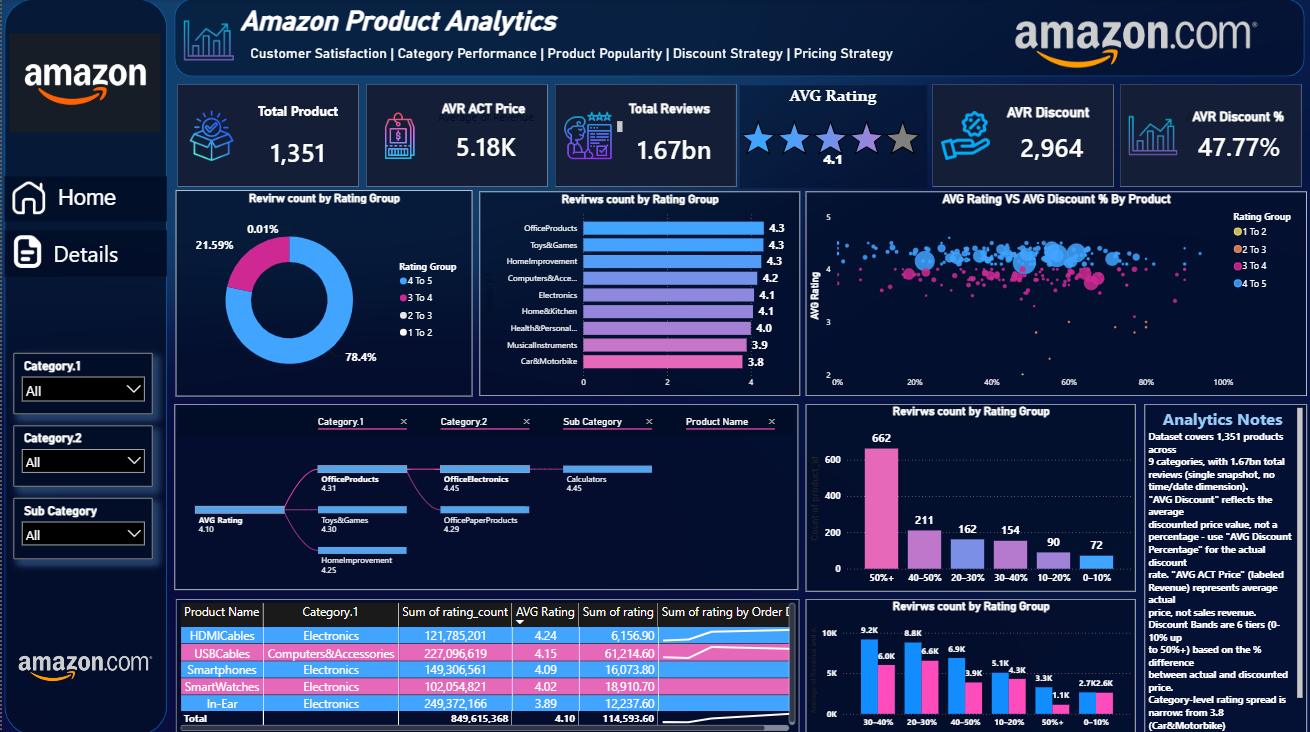

The page's visual inventory and layout, read from the dashboard file:
{"tool":"powerbi","page":{"name":"Home","canvas":[1920,1080],"ordinal":1},"visuals":[{"type":"shape","box":[3.7,0,238.5,1080.4],"z":0},{"type":"shape","box":[253.1,0,1658.2,113.7],"z":1000},{"type":"textbox","title":"  Amazon Product Analytics","box":[344.8,9.2,816.2,117.4],"z":2000},{"type":"textbox","title":"Customer Satisfaction   |   Category Performance   |   Product Popularity   |   Discount Strategy   |   Pricing Strategy","box":[359.5,67.9,1414.2,93.5],"z":3000},{"type":"cardVisual","title":"Total Product","fields":{"Data":["Count(Amazon DataSet.product_id)"]},"box":[253.1,120.3,275,159.6],"z":4000},{"type":"cardVisual","title":"Total Product","fields":{"Data":["Sum(Amazon DataSet.rating_count)"]},"box":[806.3,121.1,275,159.6],"z":5000},{"type":"PBI_CV_9053509D_D461_463A_B485_CE9F6AB0F13D","title":"AVG Rating","fields":{"value":["Amazon DataSet.AVG Rating"]},"box":[1082.9,126.6,275,151],"z":6000},{"type":"cardVisual","title":"Total Product","fields":{"Data":["Avg(Amazon DataSet.discounted_price)"]},"box":[1361.7,121.7,275,159.6],"z":7000},{"type":"cardVisual","title":"Total Product","fields":{"Data":["Avg(Amazon DataSet.discount_percentage)"]},"box":[1636.7,121.7,275,159.6],"z":8000},{"type":"textbox","title":"Total Reviews","box":[823.6,150.4,311.8,55],"z":9000},{"type":"textbox","title":"AVR Discount","box":[1379.4,154.1,311.8,64.2],"z":10000},{"type":"textbox","title":"AVR Discount %","box":[1716.9,161.4,194.4,64.2],"z":11000},{"type":"cardVisual","title":"Total Product","fields":{"Data":["Avg(Amazon DataSet.Revenue)"]},"box":[529.7,121.1,275,159.6],"z":12000},{"type":"textbox","title":"AVR ACT Price","box":[640.2,150.4,275.1,49.5],"z":13000},{"type":"donutChart","title":"Revirw count by Rating Group","fields":{"Category":["Amazon DataSet.Rating Group"],"Y":["Sum(Amazon DataSet.rating_count)"]},"box":[255,280,435,302.5],"z":14000},{"type":"barChart","title":"Revirws count by Rating Group","fields":{"Category":["Amazon DataSet.Category.1","Amazon DataSet.Category.2"],"Y":["Amazon DataSet.AVG Rating"]},"box":[700,282.5,470,300],"z":15000},{"type":"scatterChart","title":"AVG Rating VS AVG Discount % By Product","fields":{"Category":["Amazon DataSet.Product Name"],"Series":["Amazon DataSet.Rating Group"],"Size":["Sum(Amazon DataSet.rating_count)"],"X":["Avg(Amazon DataSet.discount_percentage)"],"Y":["Amazon DataSet.AVG Rating"]},"box":[1180,282.5,735,300],"z":16000},{"type":"decompositionTreeVisual","fields":{"Analyze":["Amazon DataSet.AVG Rating"],"ExplainBy":["Amazon DataSet.Category.1","Amazon DataSet.Category.2","Amazon DataSet.Sub Category","Amazon DataSet.Product Name"]},"box":[252.5,595,915,272.5],"z":17000},{"type":"clusteredColumnChart","title":"Revirws count by Rating Group","fields":{"Category":["Amazon DataSet.Discount Band"],"Y":["Count(Amazon DataSet.product_id)"]},"box":[1179.4,594.3,484.2,275.1],"z":18000},{"type":"tableEx","fields":{"Values":["Amazon DataSet.Product Name","Amazon DataSet.Category.1","Sum(Amazon DataSet.rating_count)","Amazon DataSet.AVG Rating","Sum(Amazon DataSet.rating)","SparklineData(Sum(Amazon DataSet.rating)_[Amazon DataSet.Order Date])"]},"box":[255,880,915,200],"z":19000},{"type":"clusteredColumnChart","title":"Revirws count by Rating Group","fields":{"Category":["Amazon DataSet.Discount Band"],"Y":["Avg(Amazon DataSet.Revenue)","Avg(Amazon DataSet.discounted_price)"]},"box":[1179.4,880.4,484.2,199.9],"z":20000},{"type":"actionButton","title":"Home","box":[3.7,339.3,238.5,67.9],"z":21000},{"type":"actionButton","title":"Home","box":[3.7,260.5,238.5,66],"z":22000},{"type":"image","box":[16.5,904.3,205.4,150.4],"z":23000},{"type":"slicer","fields":{"Values":["Amazon DataSet.Category.1"]},"box":[16,520,205,90],"z":24000},{"type":"slicer","fields":{"Values":["Amazon DataSet.Category.2"]},"box":[16,626,205,90],"z":25000},{"type":"slicer","fields":{"Values":["Amazon DataSet.Sub Category"]},"box":[16,732,205,90],"z":26000},{"type":"image","box":[7.3,267.8,64.2,47.7],"z":27000},{"type":"image","box":[5.5,346.7,64.2,47.7],"z":28000},{"type":"image","box":[266,23.8,75.2,73.4],"z":29000},{"type":"textbox","box":[1676.5,594.3,238.5,486.1],"z":30000},{"type":"image","box":[11,0,221.9,245.8],"z":31000},{"type":"image","box":[1472.9,14.7,372.4,93.5],"z":32000}]}

Visuals, with their boxes on the page's 1920x1080 design canvas (x1, y1, x2, y2). These are canvas units, not pixel positions in the 1310x732 screenshot, which may show the page scaled, cropped or inside an application window:
shape: <bbox>4, 0, 242, 1080</bbox>
shape: <bbox>253, 0, 1911, 114</bbox>
"  Amazon Product Analytics" textbox: <bbox>345, 9, 1161, 127</bbox>
"Customer Satisfaction   |   Category Performance   |   Product Popularity   |   Discount Strategy   |   Pricing Strategy" textbox: <bbox>360, 68, 1774, 161</bbox>
"Total Product" cardVisual: <bbox>253, 120, 528, 280</bbox>
"Total Product" cardVisual: <bbox>806, 121, 1081, 281</bbox>
"AVG Rating" PBI_CV_9053509D_D461_463A_B485_CE9F6AB0F13D: <bbox>1083, 127, 1358, 278</bbox>
"Total Product" cardVisual: <bbox>1362, 122, 1637, 281</bbox>
"Total Product" cardVisual: <bbox>1637, 122, 1912, 281</bbox>
"Total Reviews" textbox: <bbox>824, 150, 1135, 205</bbox>
"AVR Discount" textbox: <bbox>1379, 154, 1691, 218</bbox>
"AVR Discount %" textbox: <bbox>1717, 161, 1911, 226</bbox>
"Total Product" cardVisual: <bbox>530, 121, 805, 281</bbox>
"AVR ACT Price" textbox: <bbox>640, 150, 915, 200</bbox>
"Revirw count by Rating Group" donutChart: <bbox>255, 280, 690, 582</bbox>
"Revirws count by Rating Group" barChart: <bbox>700, 282, 1170, 582</bbox>
"AVG Rating VS AVG Discount % By Product" scatterChart: <bbox>1180, 282, 1915, 582</bbox>
decompositionTreeVisual - Amazon DataSet.AVG Rating x Amazon DataSet.Category.1: <bbox>252, 595, 1168, 868</bbox>
"Revirws count by Rating Group" clusteredColumnChart: <bbox>1179, 594, 1664, 869</bbox>
tableEx - Amazon DataSet.Product Name x Amazon DataSet.Category.1: <bbox>255, 880, 1170, 1080</bbox>
"Revirws count by Rating Group" clusteredColumnChart: <bbox>1179, 880, 1664, 1080</bbox>
"Home" actionButton: <bbox>4, 339, 242, 407</bbox>
"Home" actionButton: <bbox>4, 260, 242, 326</bbox>
image: <bbox>16, 904, 222, 1055</bbox>
slicer - Amazon DataSet.Category.1: <bbox>16, 520, 221, 610</bbox>
slicer - Amazon DataSet.Category.2: <bbox>16, 626, 221, 716</bbox>
slicer - Amazon DataSet.Sub Category: <bbox>16, 732, 221, 822</bbox>
image: <bbox>7, 268, 72, 316</bbox>
image: <bbox>6, 347, 70, 394</bbox>
image: <bbox>266, 24, 341, 97</bbox>
textbox: <bbox>1676, 594, 1915, 1080</bbox>
image: <bbox>11, 0, 233, 246</bbox>
image: <bbox>1473, 15, 1845, 108</bbox>
